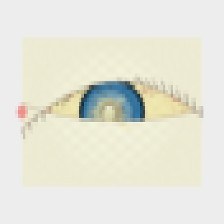corneal_ulcer: (83, 93, 135, 135)
